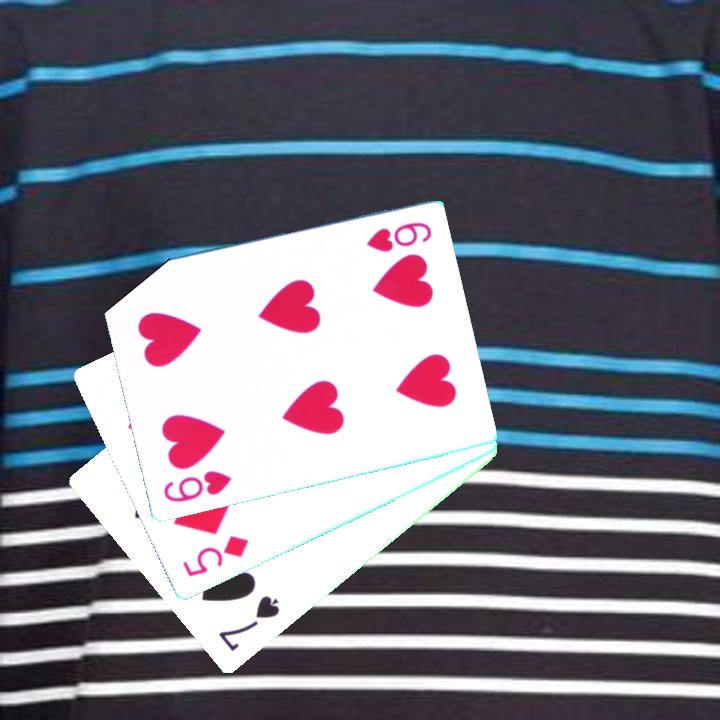5d: (178, 532, 252, 580)
6h: (159, 467, 235, 506), (362, 219, 434, 255)
7s: (215, 592, 283, 655)
